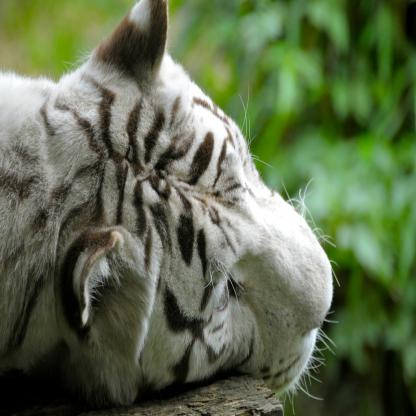tiger: (55, 0, 330, 405)
